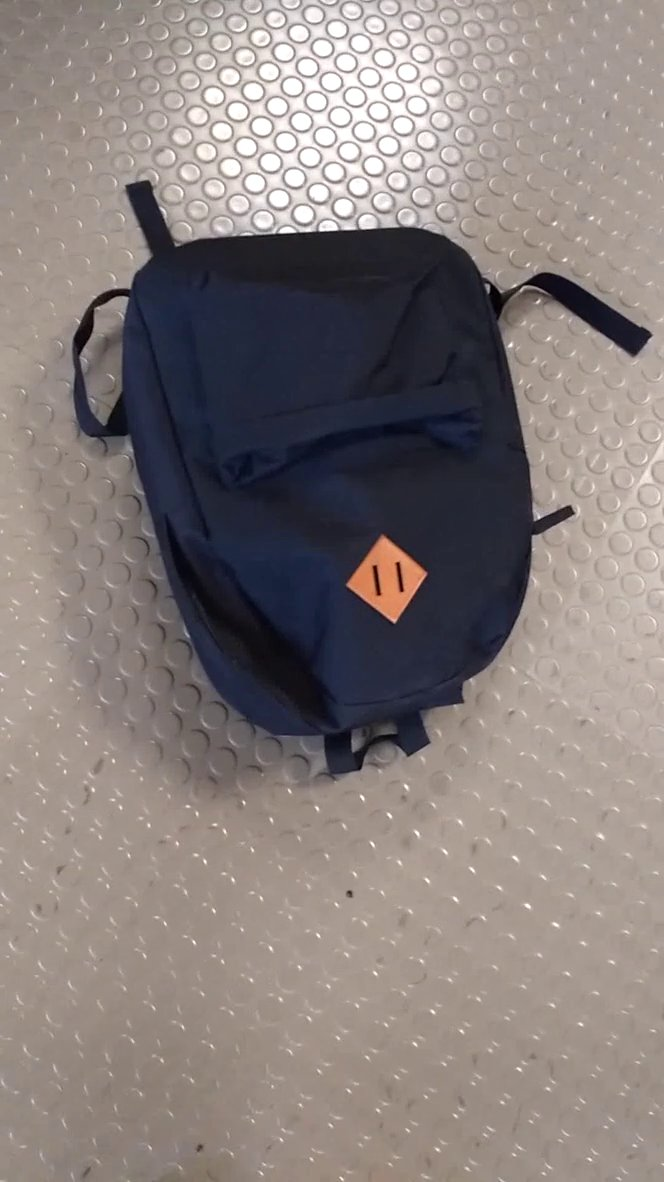bag: (70, 166, 656, 779)
